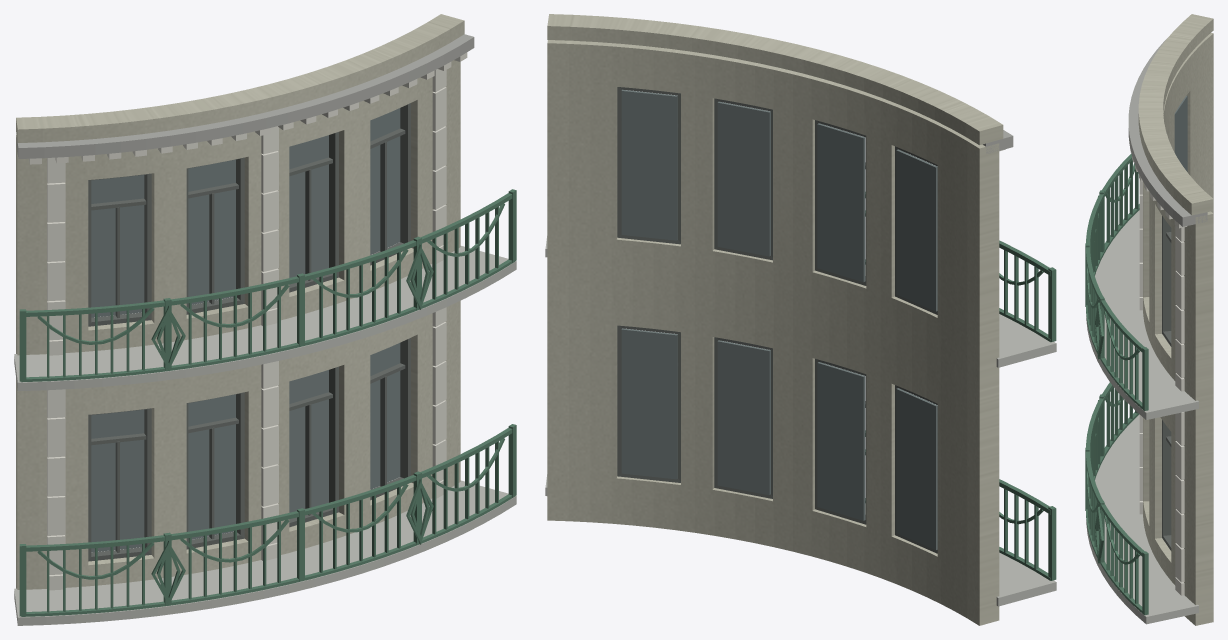
Rendered from rui-rong-shipyard-curved-green-gallery-near.glb.
3 views of the same model, side by side, from view 1: azimuth 30°, elevation 25°; view 2: azimuth 150°, elevation 25°; view 3: azimuth 270°, elevation 25° (orthographic). The views are drawn at different scales.
Parts seen in each view (by area): view 1: 瑞瑢船厂旧址转角双层绿铁栏外廊; view 2: 瑞瑢船厂旧址转角双层绿铁栏外廊; view 3: 瑞瑢船厂旧址转角双层绿铁栏外廊.
Boxes of the visible parts, left/top/right/bottom form: 瑞瑢船厂旧址转角双层绿铁栏外廊: left=14, top=14, right=516, bottom=625; 瑞瑢船厂旧址转角双层绿铁栏外廊: left=545, top=14, right=1056, bottom=625; 瑞瑢船厂旧址转角双层绿铁栏外廊: left=1085, top=14, right=1213, bottom=625.
Bounding box in the file's own units: 3.71 × 3.46 × 0.9502.
Materials: 7 (1 with a texture image).
